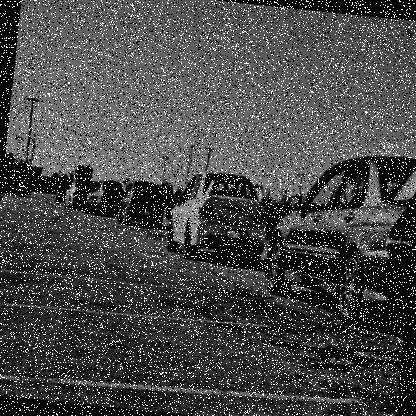Car: (260, 128, 415, 330), (166, 161, 272, 266), (117, 178, 166, 229), (84, 177, 126, 218), (64, 177, 98, 211), (0, 174, 32, 198)
